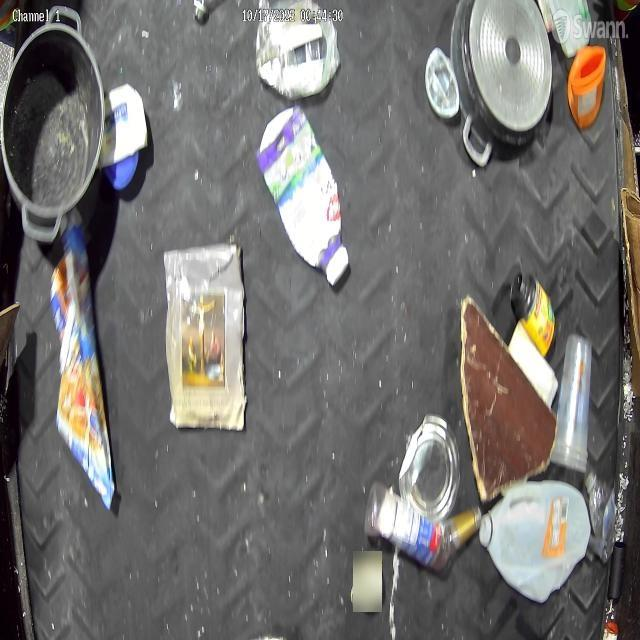milk_jug: (482, 477, 591, 602)
plastic_bottle: (584, 472, 616, 562)
